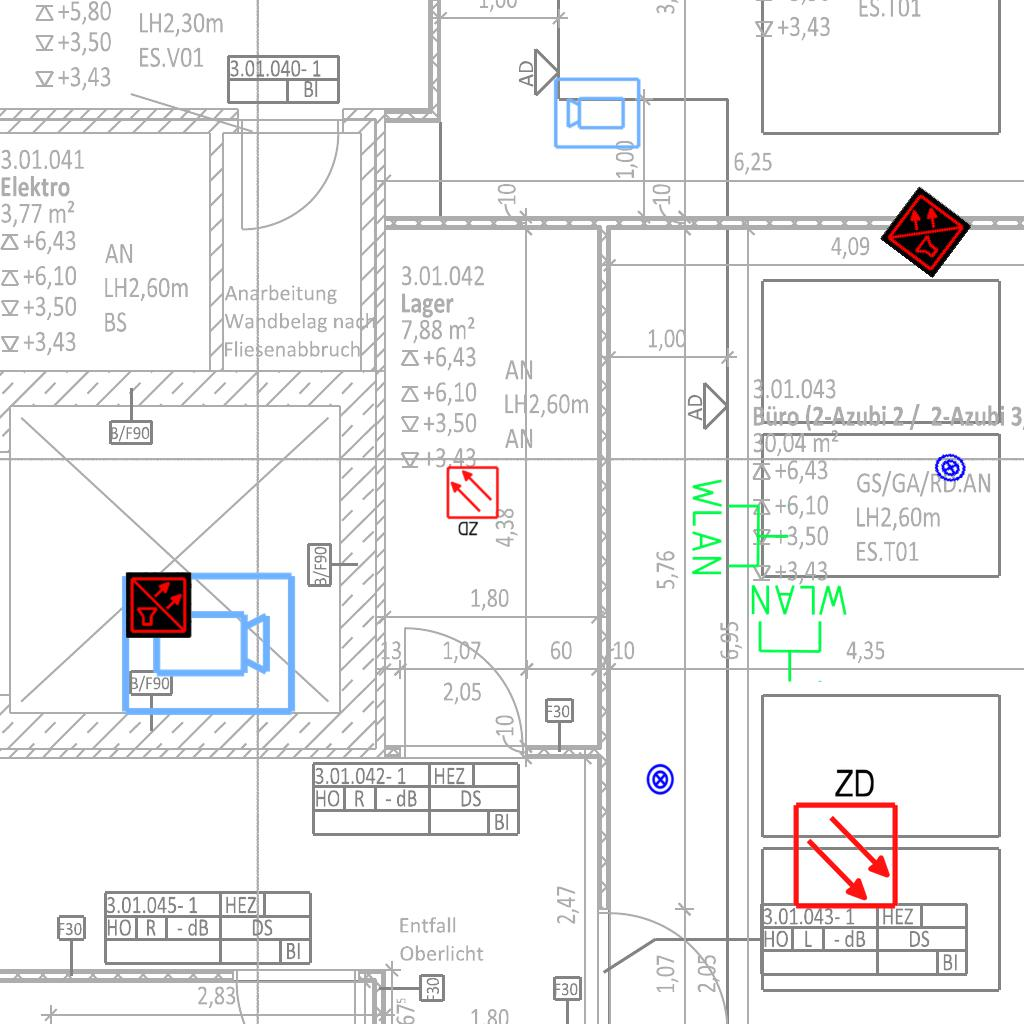KFO_Kamera_mit_Festobjektiv: (117, 568, 299, 722), (552, 74, 643, 151)
OKW_Multisensormelder_(Kombination_optischer_Rauch-Kahlenmonoxid_Waerme-Melder): (879, 185, 973, 279), (126, 572, 192, 638)
Taster_beleuchtet: (929, 446, 972, 489), (644, 763, 677, 796)
WLAN: (747, 581, 852, 685), (688, 474, 792, 579)
ZD_Melder_in_Zwischendecke_mit_Revisionsoeffnung_mind_40_x_40_cm: (787, 762, 901, 911), (445, 465, 502, 539)
